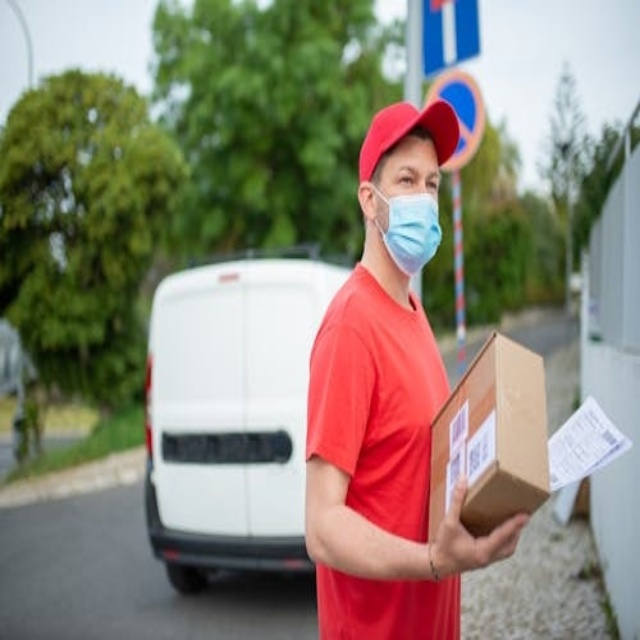Mascara: (372, 184, 440, 275)
Sin_gafas: (385, 157, 447, 194)
Sin_guantes: (425, 462, 535, 596)
